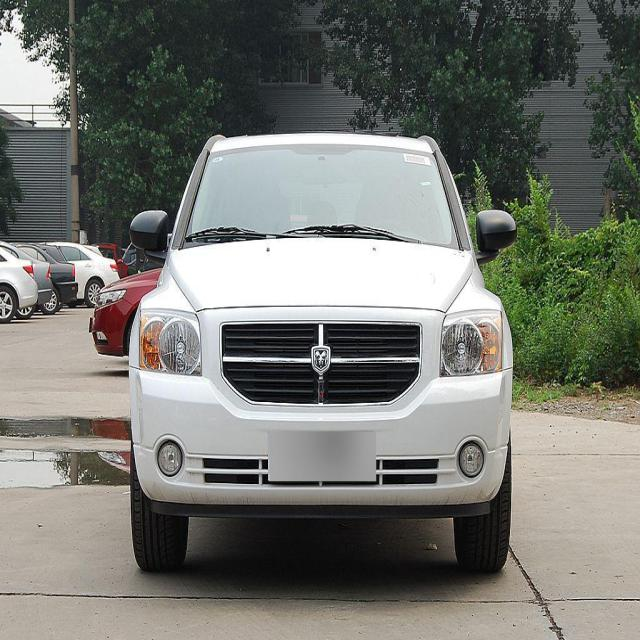front_bumper: (127, 359, 515, 510)
front_glass: (181, 145, 464, 248)
front_left_side_light: (437, 306, 504, 383)
front_left_side_mirror: (473, 208, 518, 267)
front_right_side_light: (136, 306, 202, 376)
front_right_side_mirror: (131, 207, 172, 267)
